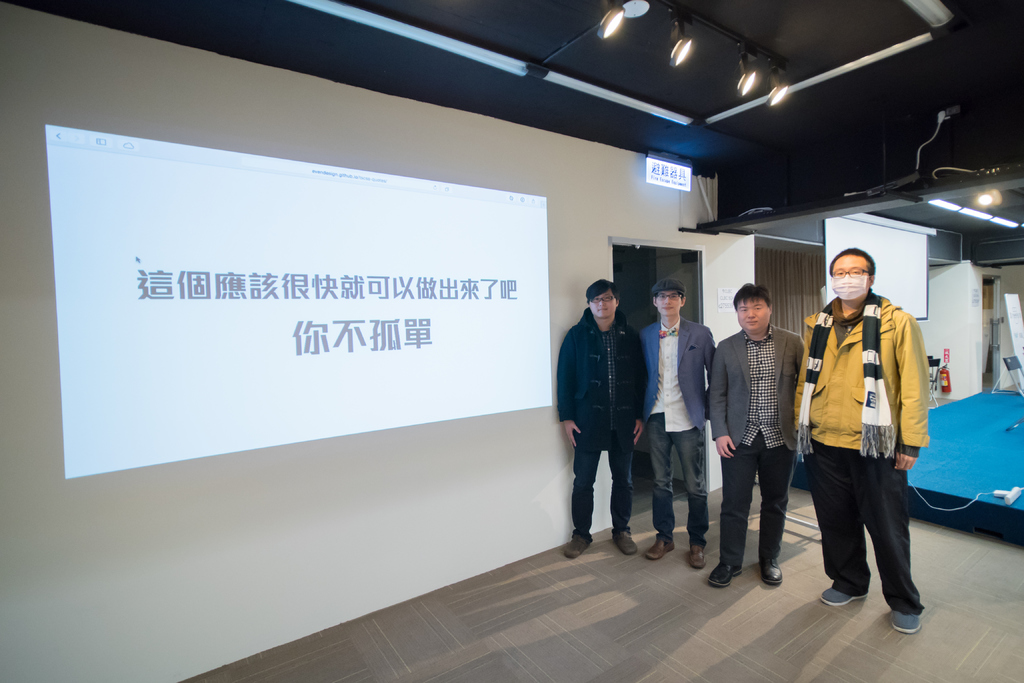Footwear: (820, 582, 865, 608), (703, 562, 743, 586), (563, 529, 593, 559), (758, 554, 785, 587), (890, 607, 919, 636), (613, 529, 638, 555), (648, 533, 673, 559), (691, 543, 706, 572)
